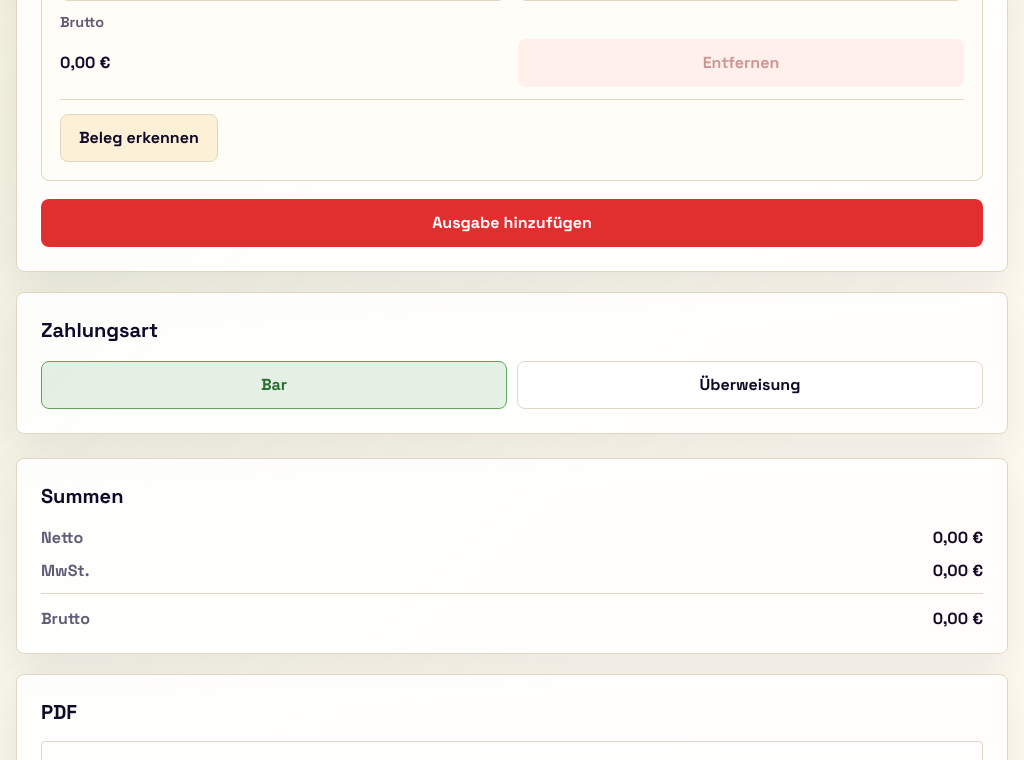
Test: App › shows bank fields when bank transfer is selected
The image size is (1024, 760).
(page scrolled)
Click the radio button labelled "Überweisung".
click(750, 385)  # box top-left (517, 361), bottom-right (983, 409)
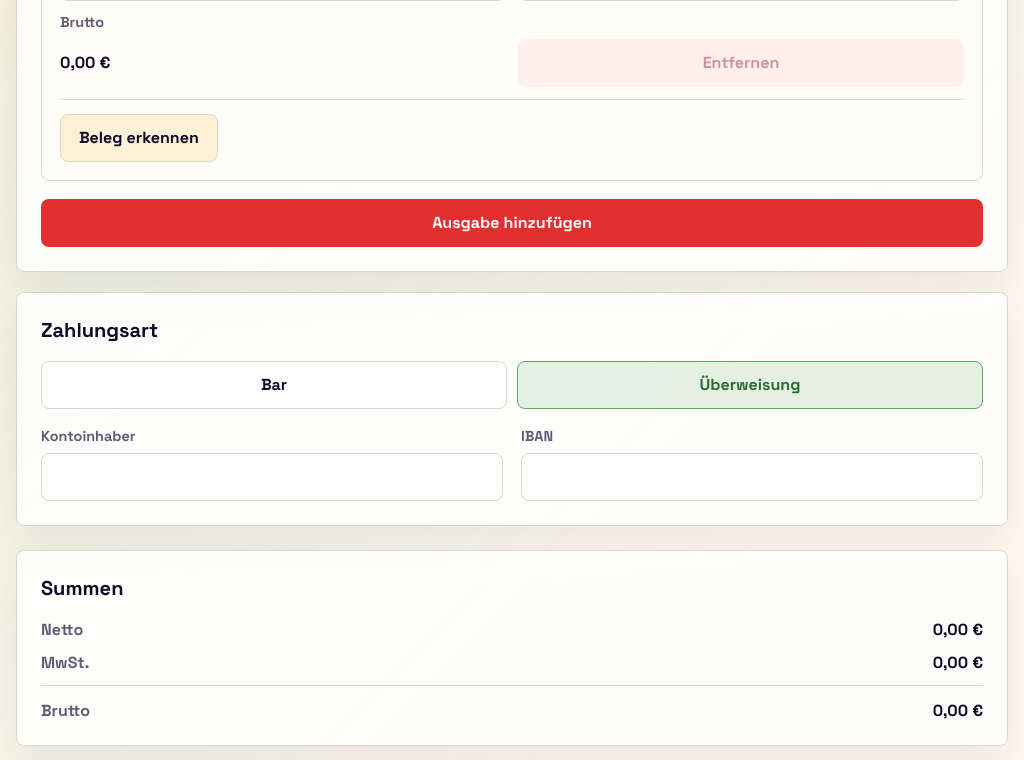
Expected: the field labelled "Kontoinhaber" is shown, top-left (41, 453), bottom-right (503, 501)
Expected: the field labelled "IBAN" is shown, top-left (521, 453), bottom-right (983, 501)
